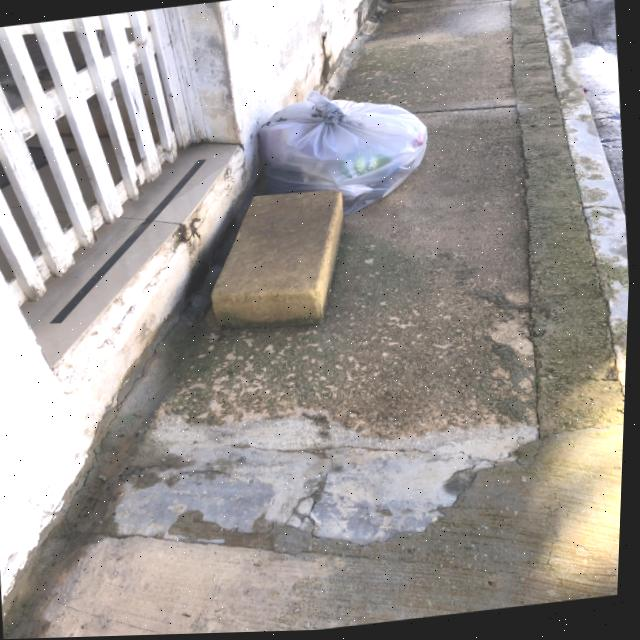Other: (388, 1, 452, 7)
Recycled Waste -Grey or Green Bag-: (253, 80, 438, 228)
